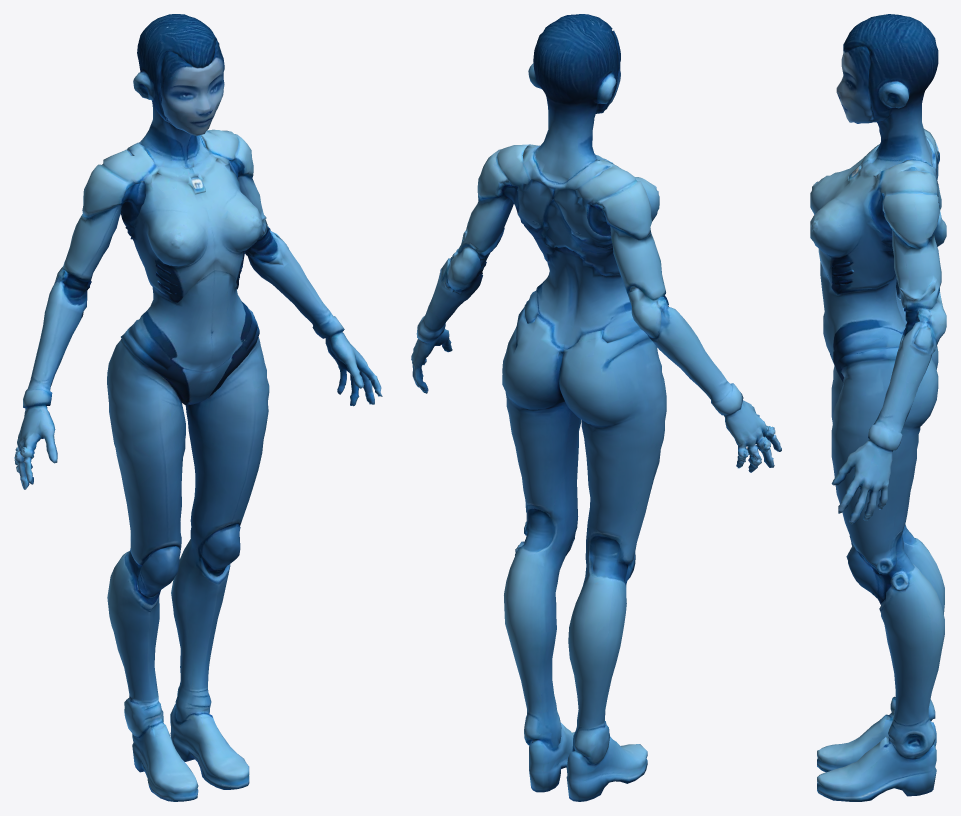
File: ariana.glb
3 renders of one model, left to right at view 1: azimuth 30°, elevation 25°; view 2: azimuth 150°, elevation 25°; view 3: azimuth 270°, elevation 25°, orthographic.
Visible parts, largest first — view 1: tripo_node_37ef0e9f-3367-4beb-a47d-161a69a59766; view 2: tripo_node_37ef0e9f-3367-4beb-a47d-161a69a59766; view 3: tripo_node_37ef0e9f-3367-4beb-a47d-161a69a59766.
Boxes of the visible parts, box(x1,y1,x2,y2) form: tripo_node_37ef0e9f-3367-4beb-a47d-161a69a59766: box(14, 14, 382, 801); tripo_node_37ef0e9f-3367-4beb-a47d-161a69a59766: box(411, 14, 781, 801); tripo_node_37ef0e9f-3367-4beb-a47d-161a69a59766: box(810, 14, 946, 801).
Bounding box in the file's own units: 0.4941 × 0.998 × 0.162.
Materials: 1 (1 with a texture image).
